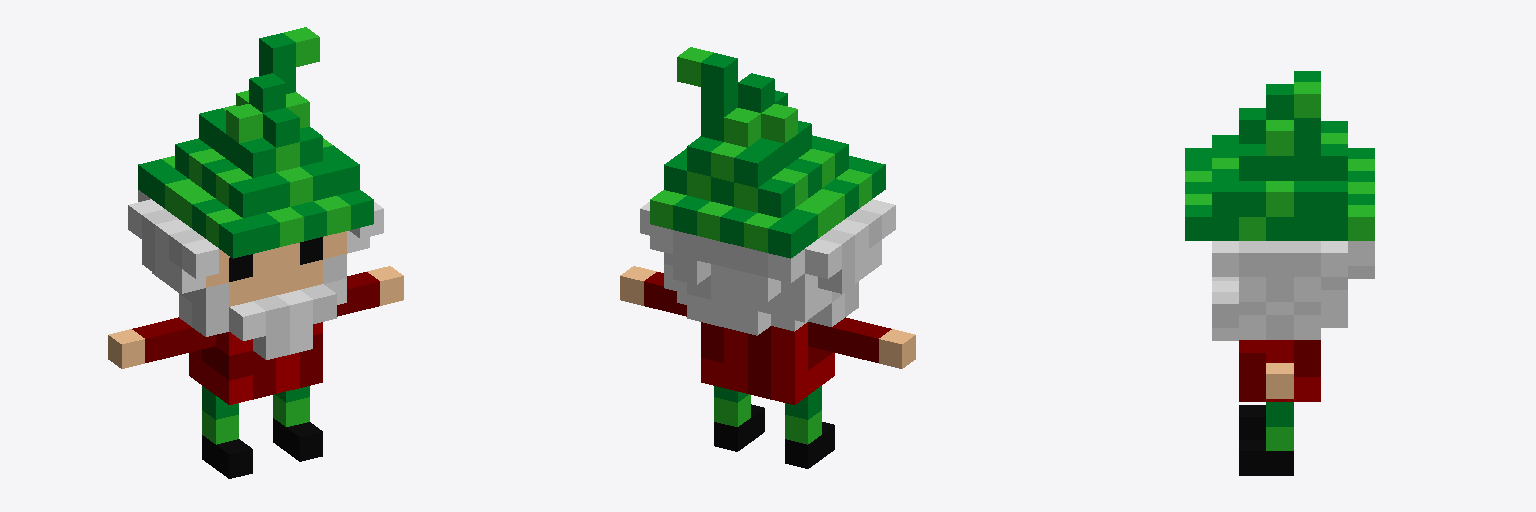
3 renders of one model, left to right at view 1: azimuth 30°, elevation 25°; view 2: azimuth 150°, elevation 25°; view 3: azimuth 270°, elevation 25°, orthographic.
Visible parts, largest first — view 1: gnom2; view 2: gnom2; view 3: gnom2.
Part boxes in pixels (x1,y1,x2,y2): gnom2: (108,27,403,478); gnom2: (620,47,915,468); gnom2: (1185,71,1374,475).
Size of the model in its own units: 1.2 by 1.6 by 0.7.
1 materials, 1 textured.